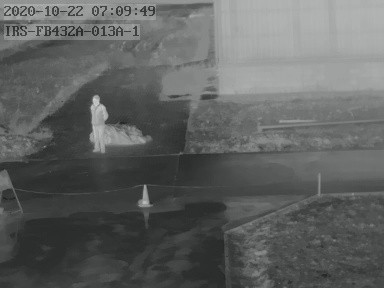person: (88, 94, 108, 154)
